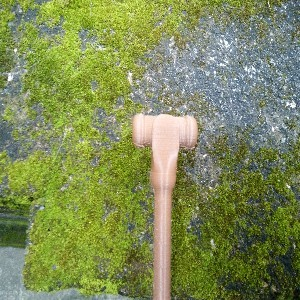palu: (130, 112, 197, 300)
